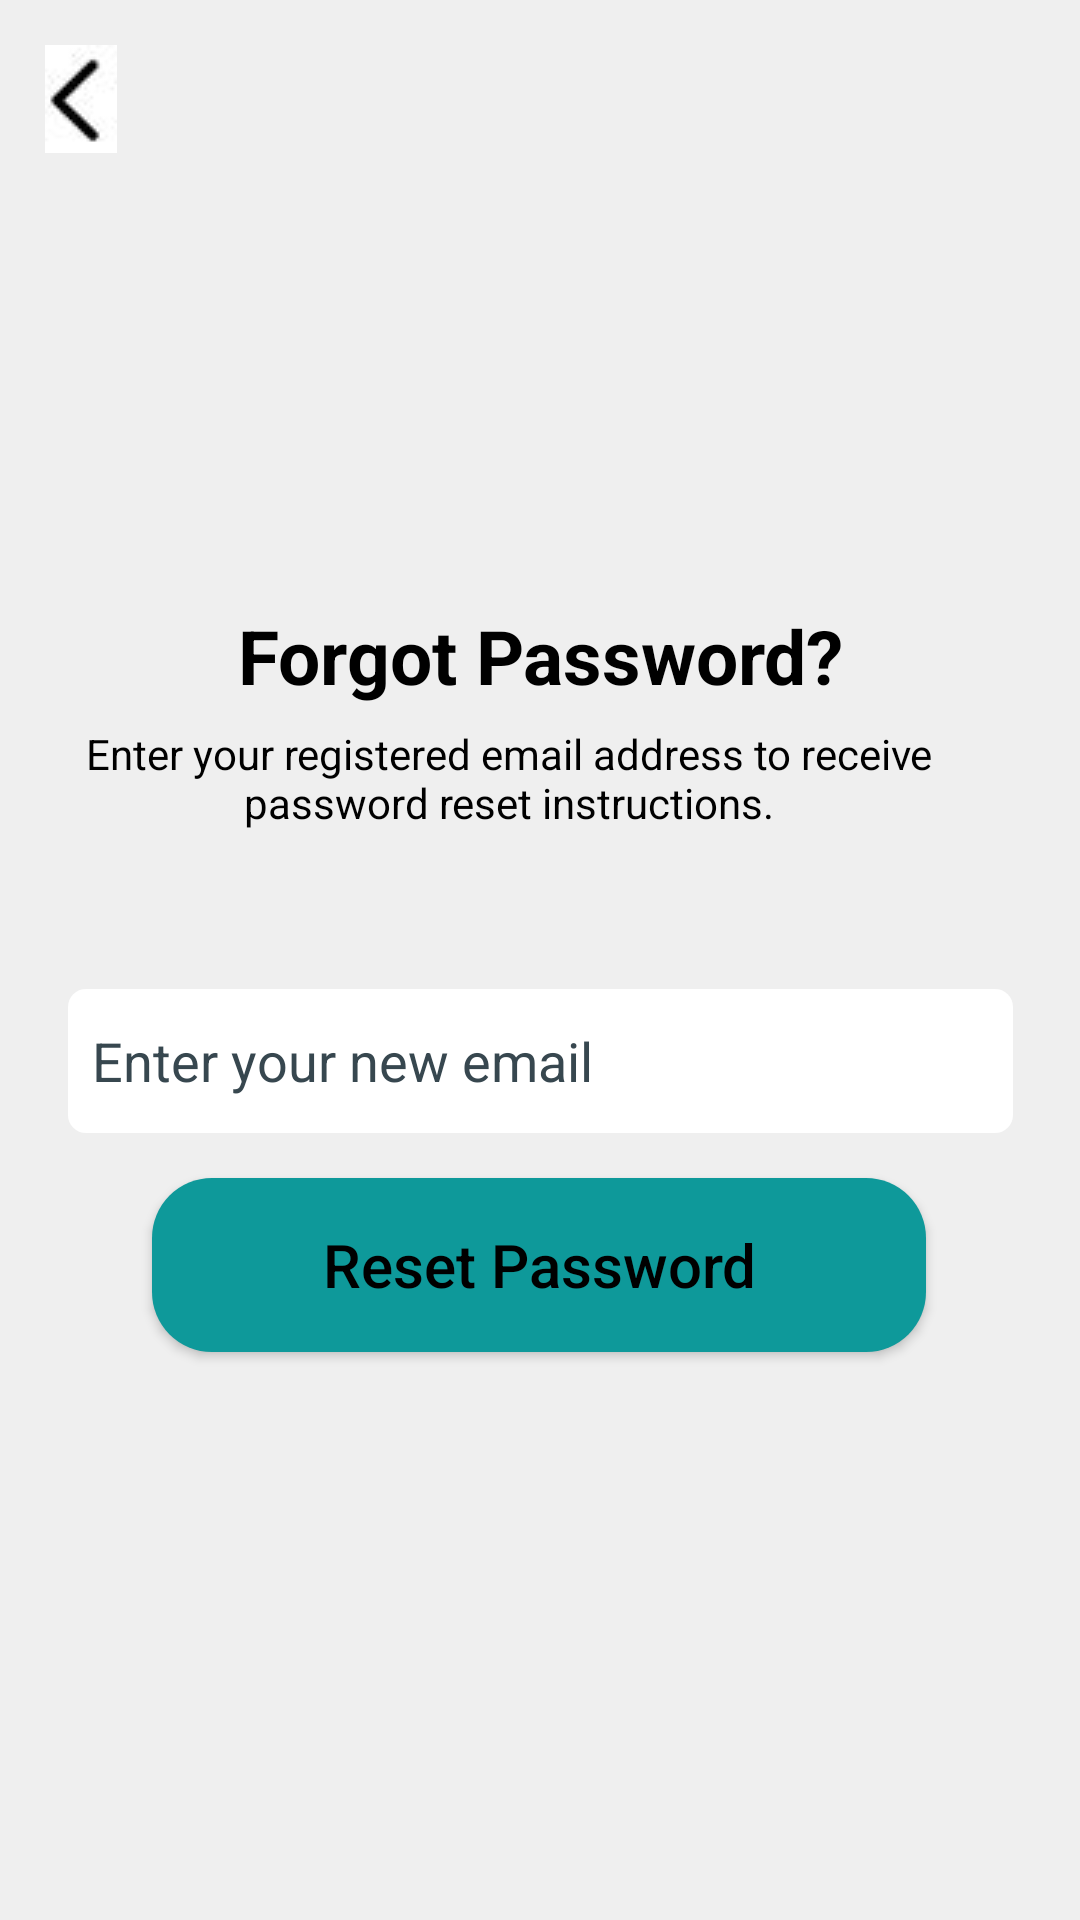

Icons on this 1080px×1920px Android screen, each with the point to tap as [x,y]:
backicon: [81,99]
